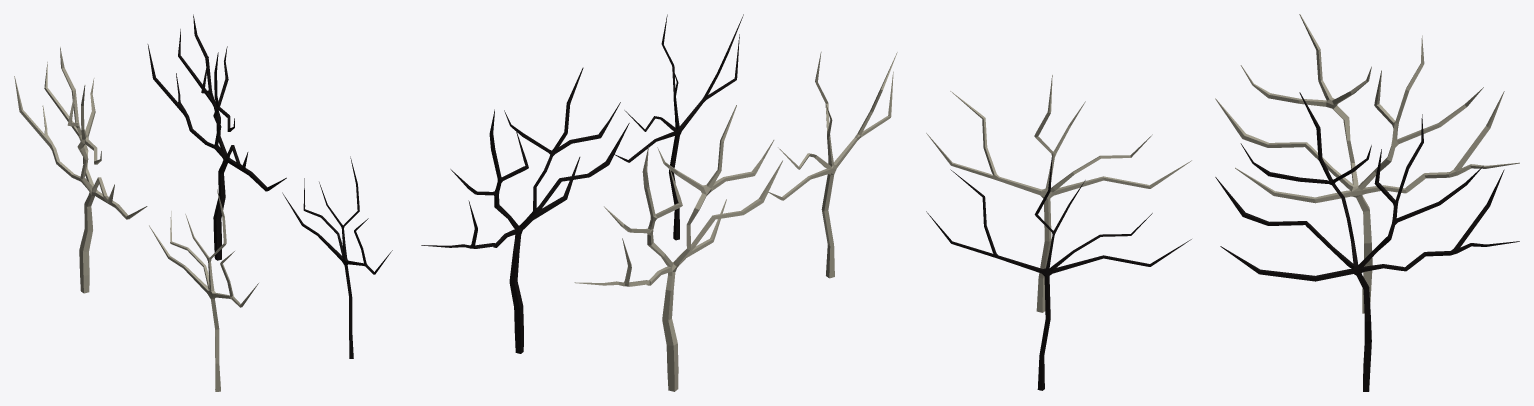
Rendered from modelo_caatinga_arvores.fbx.
3 renders of one model, left to right at view 1: azimuth 30°, elevation 25°; view 2: azimuth 150°, elevation 25°; view 3: azimuth 270°, elevation 25°, orthographic. The views are drawn at different scales.
Parts seen in each view (by area): view 1: Caatinga Arvore 1, Caatinga Arvore Morta 1, Caatinga Arvore 2, Caatinga Arvore Morta 2; view 2: Caatinga Arvore 1, Caatinga Arvore Morta 1, Caatinga Arvore 2, Caatinga Arvore Morta 2; view 3: Caatinga Arvore 1, Caatinga Arvore Morta 1, Caatinga Arvore 2, Caatinga Arvore Morta 2.
Part boxes in pixels (bbox=[...]): Caatinga Arvore 1: bbox=[14, 47, 147, 293]; Caatinga Arvore Morta 1: bbox=[147, 14, 286, 260]; Caatinga Arvore 2: bbox=[149, 189, 258, 391]; Caatinga Arvore Morta 2: bbox=[282, 156, 392, 358]; Caatinga Arvore 1: bbox=[574, 105, 782, 391]; Caatinga Arvore Morta 1: bbox=[421, 67, 629, 353]; Caatinga Arvore 2: bbox=[768, 51, 897, 278]; Caatinga Arvore Morta 2: bbox=[614, 14, 743, 240]; Caatinga Arvore 1: bbox=[1215, 14, 1519, 313]; Caatinga Arvore Morta 1: bbox=[1215, 92, 1519, 391]; Caatinga Arvore 2: bbox=[926, 75, 1191, 312]; Caatinga Arvore Morta 2: bbox=[926, 153, 1191, 390].
Bounding box in the file's own units: 252 × 296 × 564.
